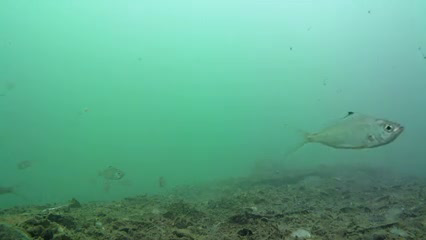smallfish: (306, 109, 404, 158), (94, 162, 128, 182)
